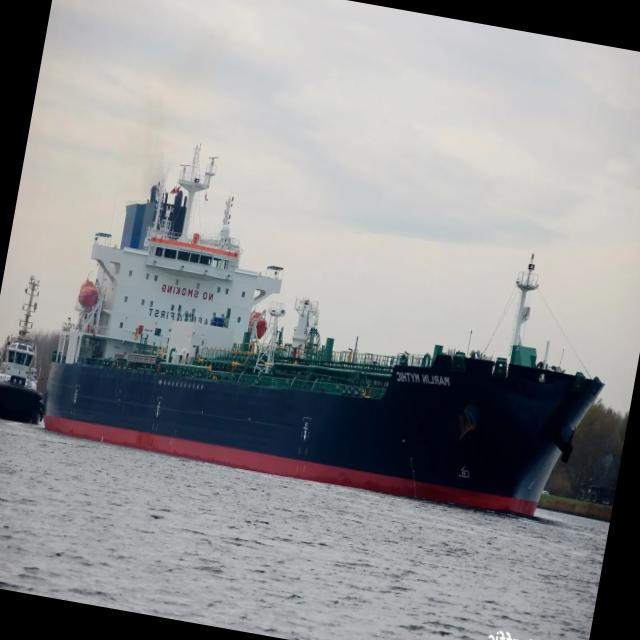Tanker: (43, 147, 604, 515)
Tug: (0, 275, 42, 423)
